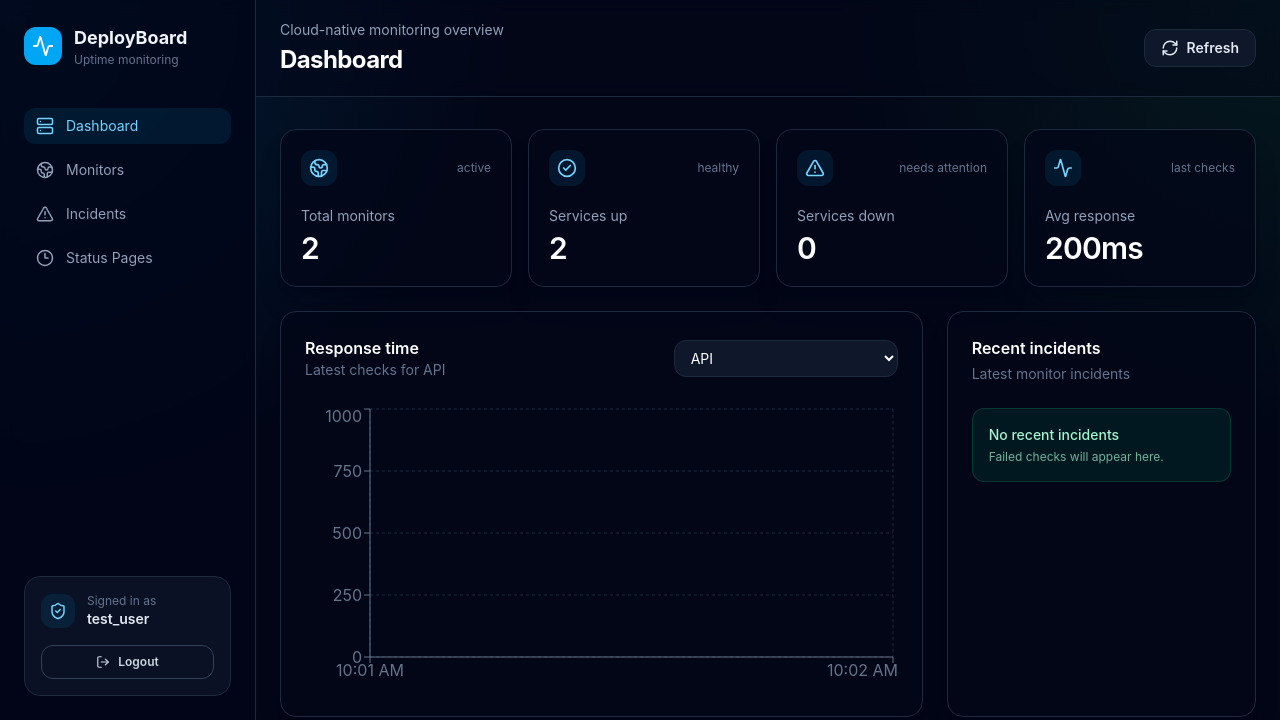
dashboard statistics › averages each latest response once and keeps the chart selector independent
The width and height of the screenshot is (1280, 720).
Expected: the heading "Dashboard" is shown, [280,45,403,74]
Expected: the text "200ms" is shown, [1045,230,1143,266]
Select "Frontend" in the dropdown named "Select monitor for response time chart" at point(786, 358), box [674,340,898,376]
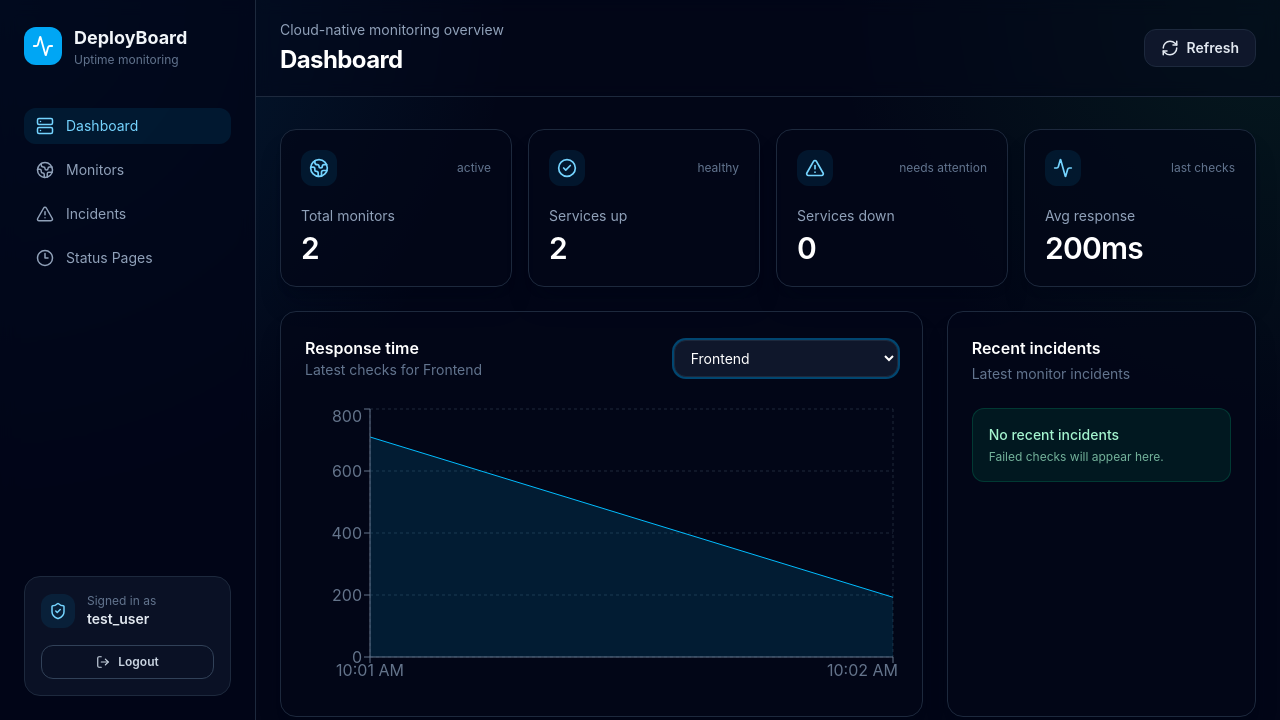
Expected: the text "200ms" is shown, [1045,230,1143,266]
Now the text "Latest checks for Frontend" is shown, box [305,360,482,380]
